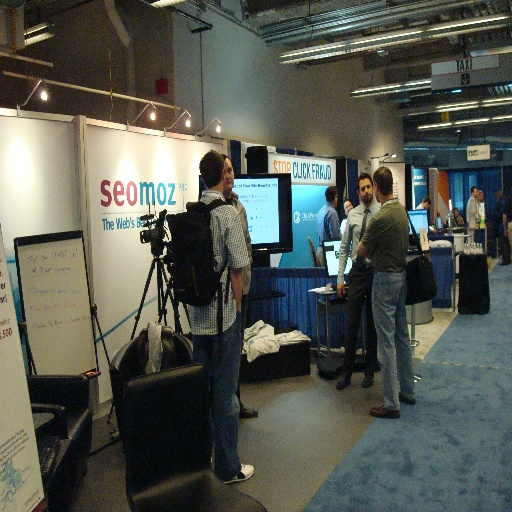hand: (335, 278, 346, 301)
